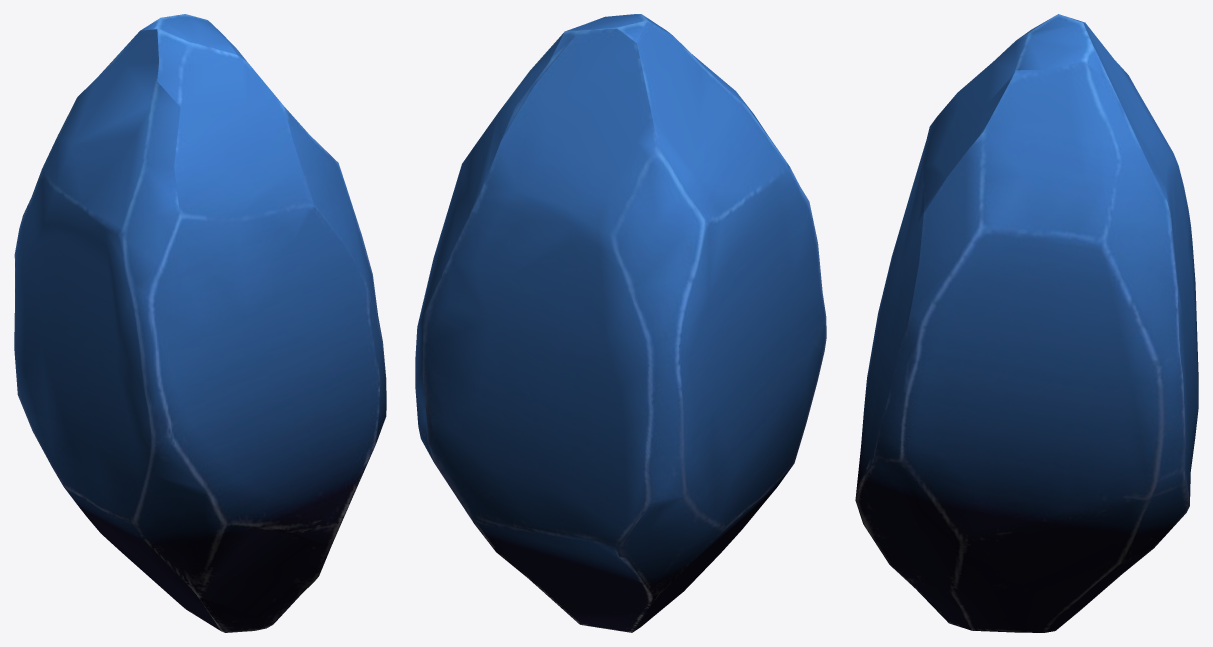
The model's file is gemstone.fbx.
3 views of the same model, side by side, from view 1: azimuth 30°, elevation 25°; view 2: azimuth 150°, elevation 25°; view 3: azimuth 270°, elevation 25° (orthographic). The views are drawn at different scales.
Parts seen in each view (by area): view 1: GemStone; view 2: GemStone; view 3: GemStone.
Part boxes in pixels (box(x1,y1,x2,y2)): GemStone: box(14, 14, 386, 632); GemStone: box(415, 14, 826, 632); GemStone: box(855, 14, 1198, 632).
Bounding box in the file's own units: 91.69 × 200 × 106.
1 material, 1 textured.
